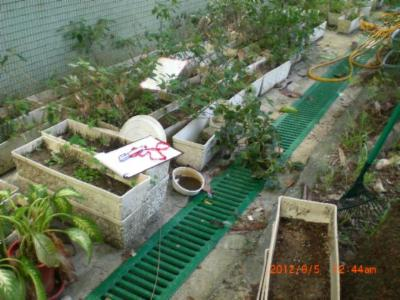bowl: (170, 165, 205, 197)
